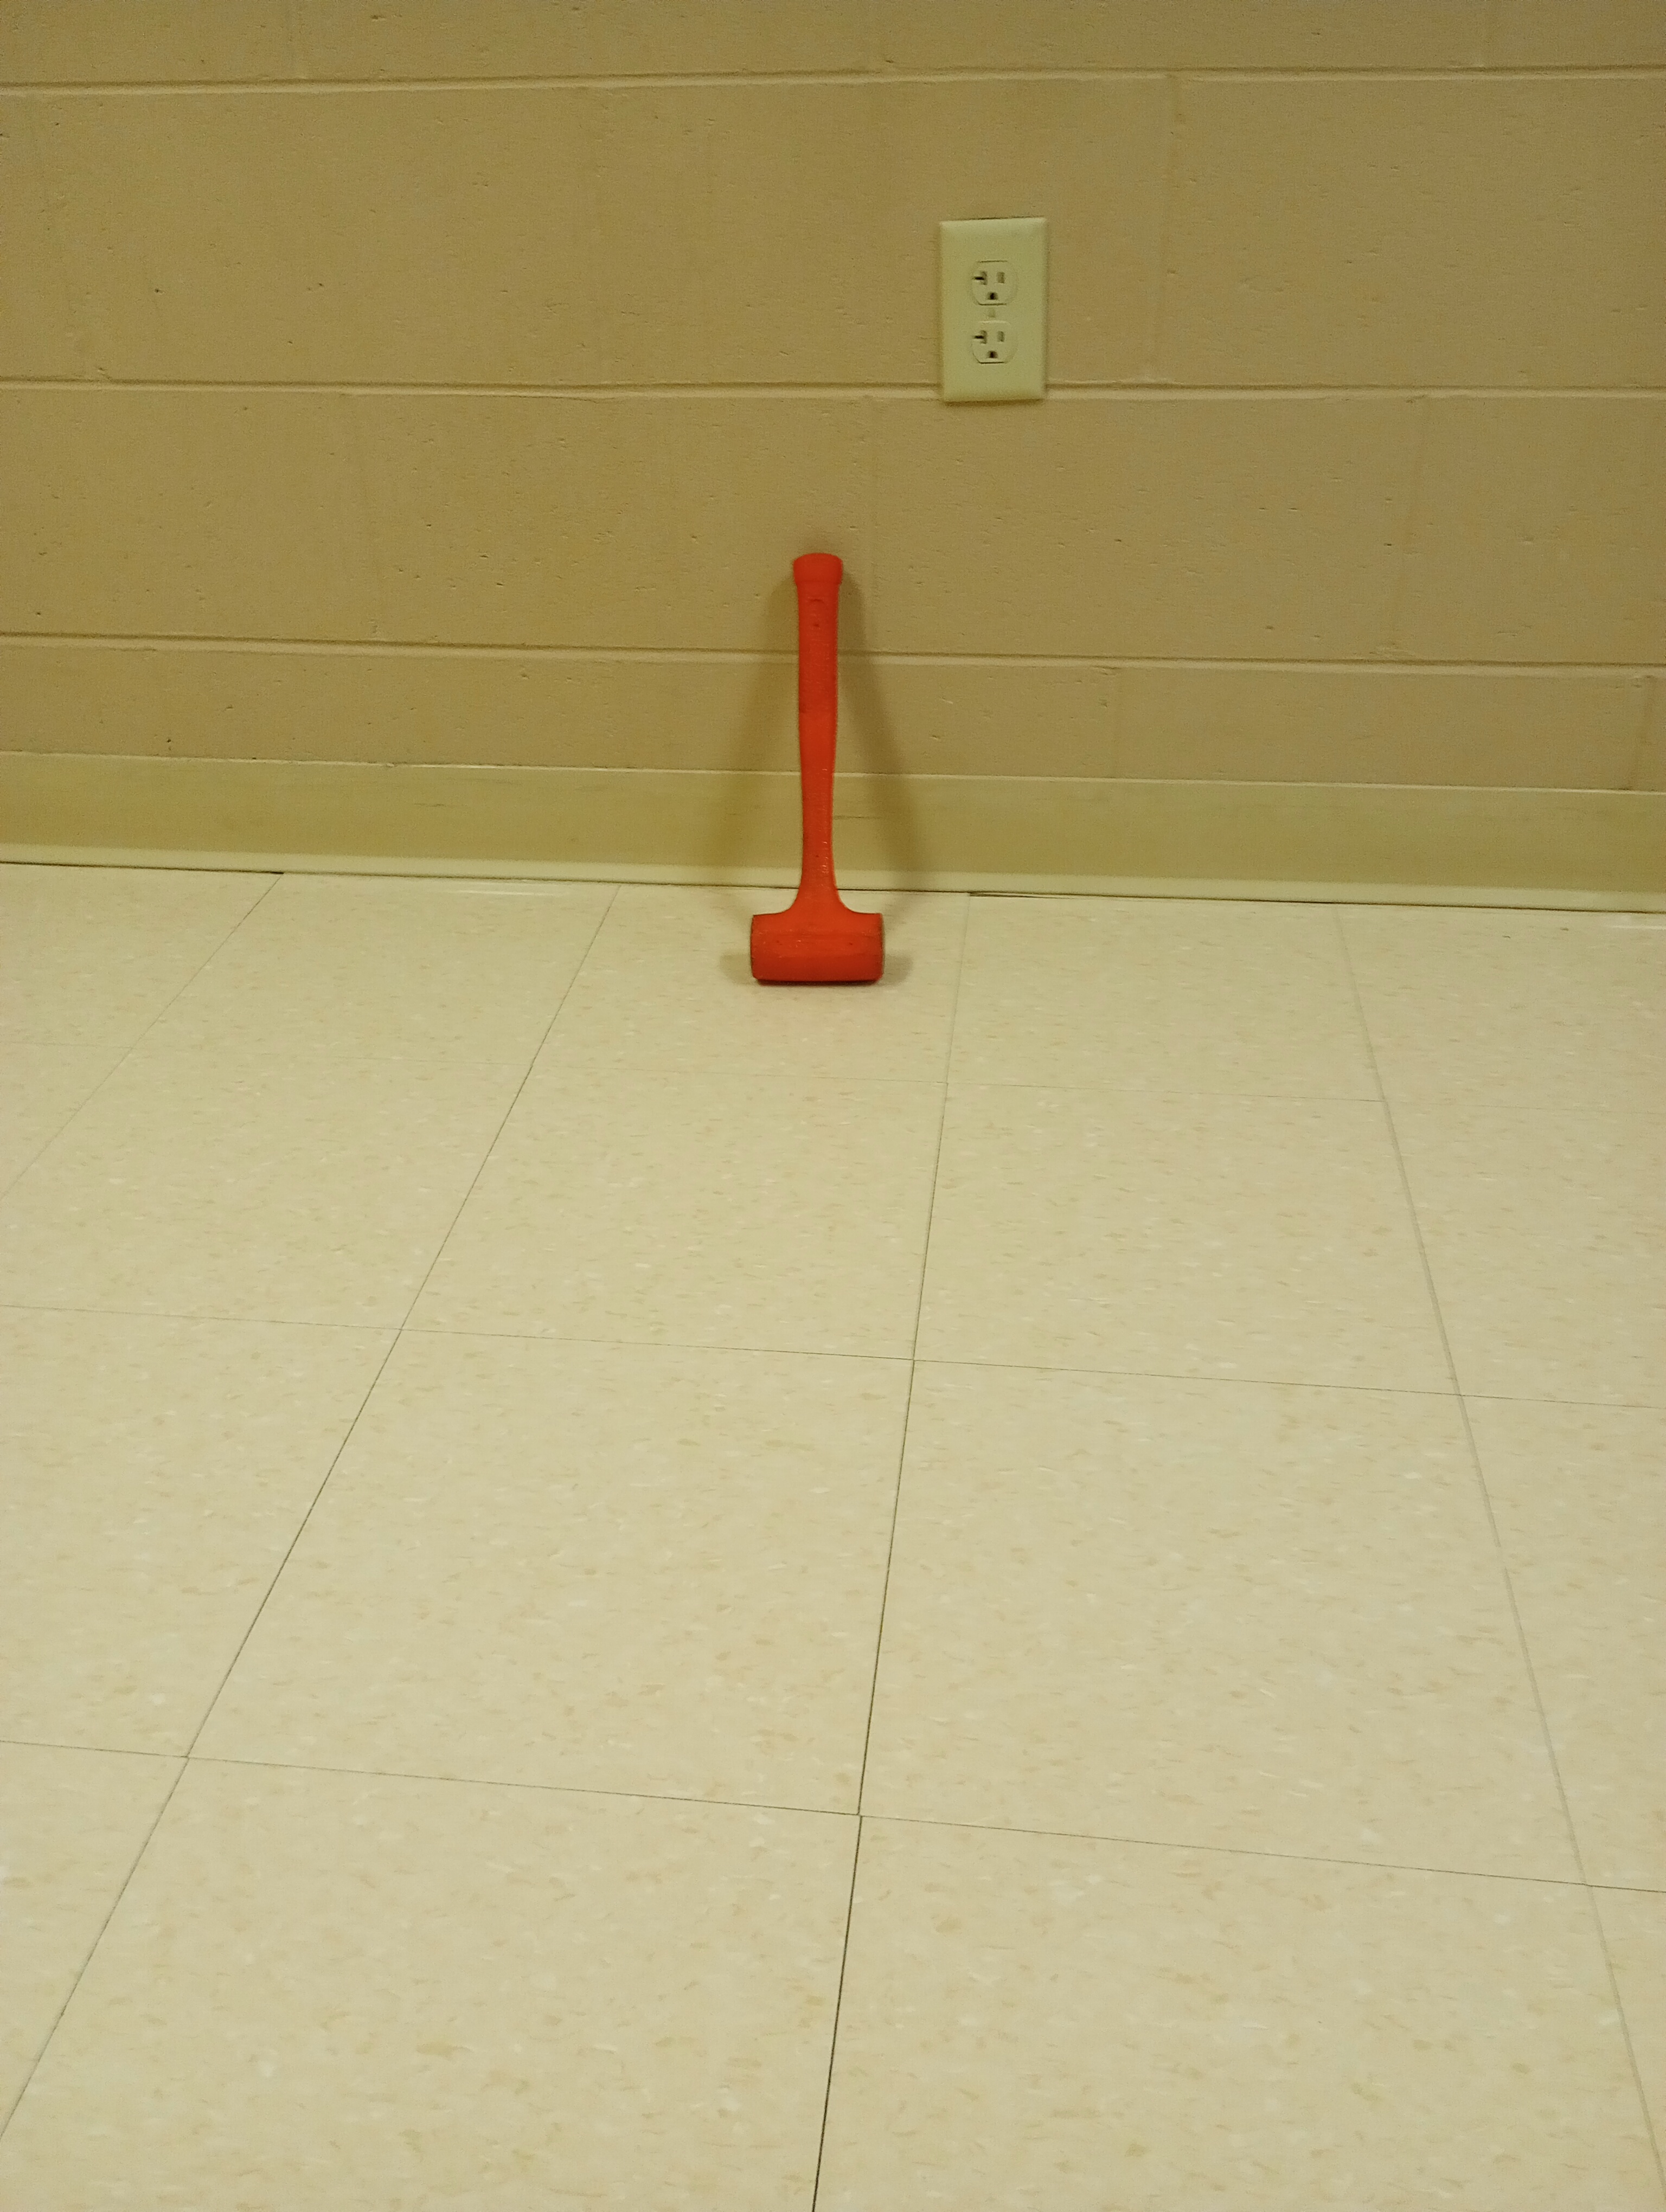bottle: (744, 537, 889, 995)
